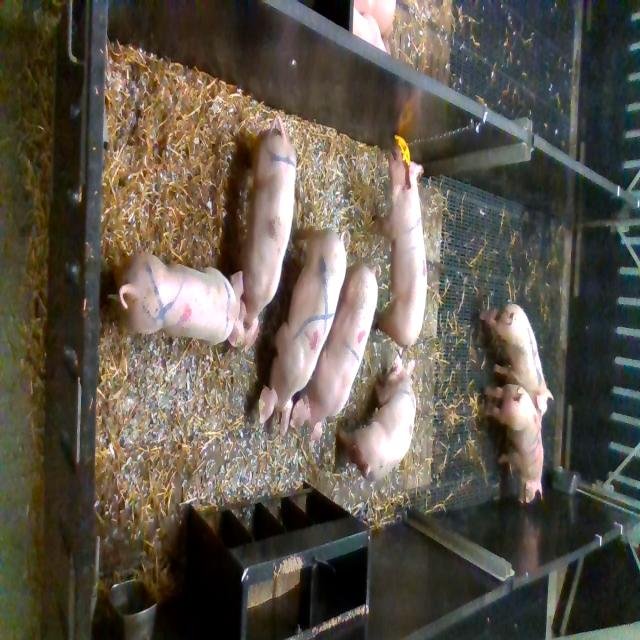pig: (258, 228, 352, 438), (290, 259, 382, 444), (238, 114, 297, 353), (118, 253, 247, 349), (369, 148, 427, 351), (336, 355, 417, 483), (480, 304, 553, 426), (484, 384, 544, 504)
